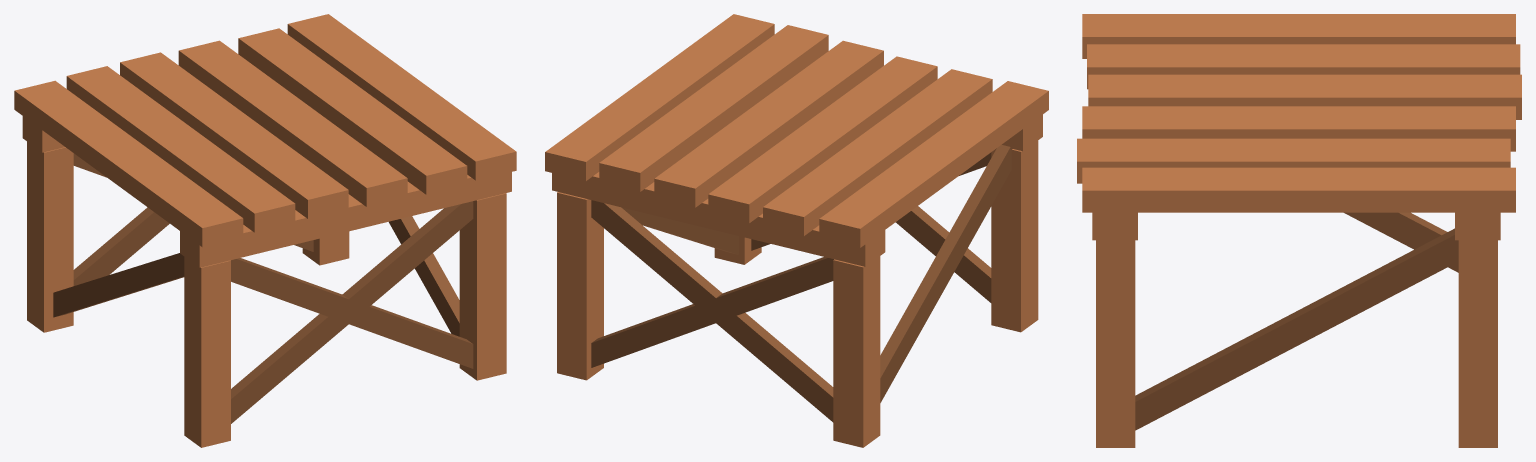
File: wooden_stand.fbx
3 views of the same model, side by side, from view 1: azimuth 30°, elevation 25°; view 2: azimuth 150°, elevation 25°; view 3: azimuth 270°, elevation 25° (orthographic). The views are drawn at different scales.
Parts seen in each view (by area): view 1: wooden_stand; view 2: wooden_stand; view 3: wooden_stand.
Boxes of the visible parts, <box> form: wooden_stand: <box>14,14,516,447</box>; wooden_stand: <box>545,14,1048,447</box>; wooden_stand: <box>1077,14,1521,447</box>.
Size of the model in its own units: 275 by 188 by 292.
1 material, 1 textured.
